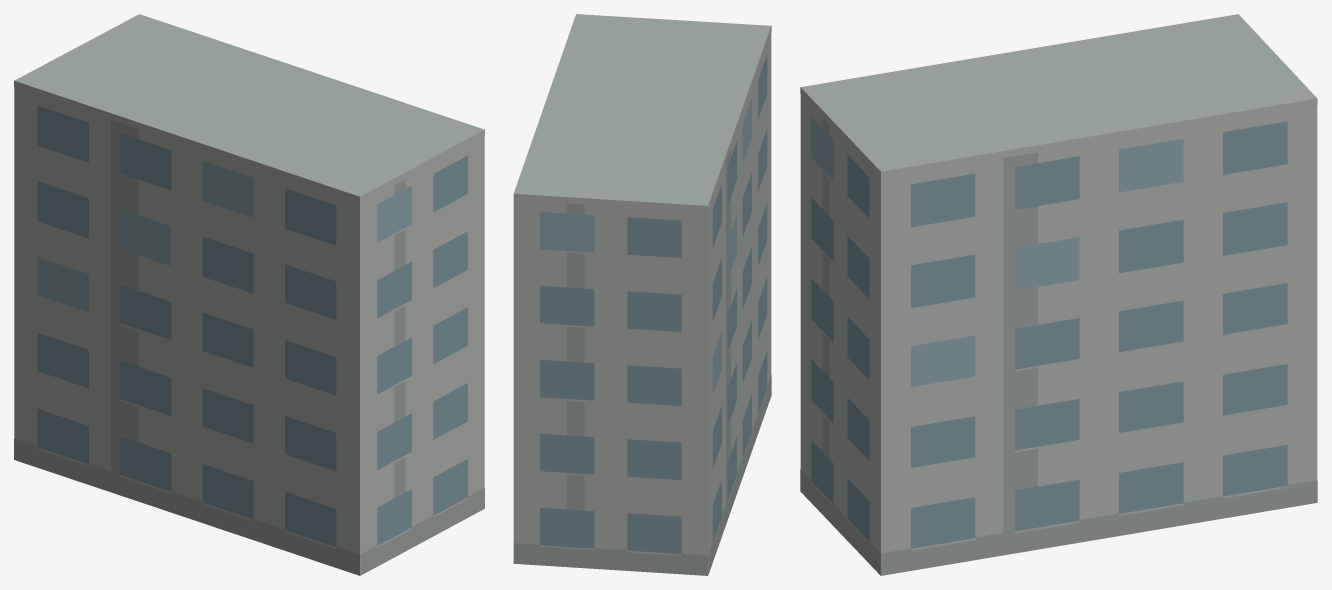
File: survey-upis-32885960.glb
3 renders of one model, left to right at view 1: azimuth 30°, elevation 25°; view 2: azimuth 150°, elevation 25°; view 3: azimuth 270°, elevation 25°, orthographic. The views are drawn at different scales.
Visible parts, largest first — view 1: survey-upis-32885960.tmp; view 2: survey-upis-32885960.tmp; view 3: survey-upis-32885960.tmp.
Part boxes in pixels (x1,y1,x2,y2): survey-upis-32885960.tmp: (14,14,484,575); survey-upis-32885960.tmp: (513,14,771,575); survey-upis-32885960.tmp: (800,14,1317,575).
Size of the model in its own units: 11.96 by 14.3 by 16.58.
